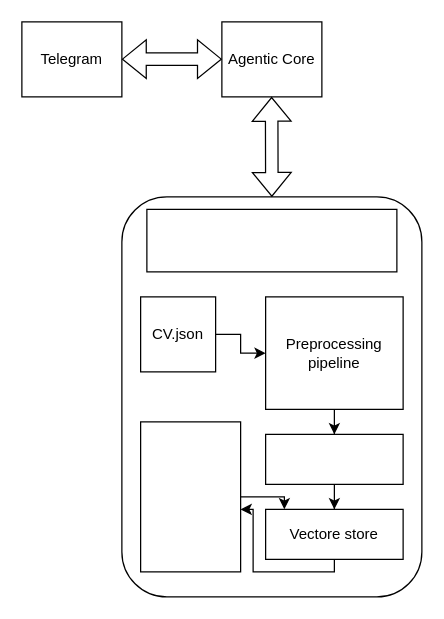
The diagram is 444 pixels wide and 619 high, and some of its shapes have lost their labels. Each missing label, with the centre of its shape:
"Embedding" goes at (333,458).
"RAG-Движок" goes at (271,240).
"Retriever (Обработчик запросов)" goes at (190,496).
